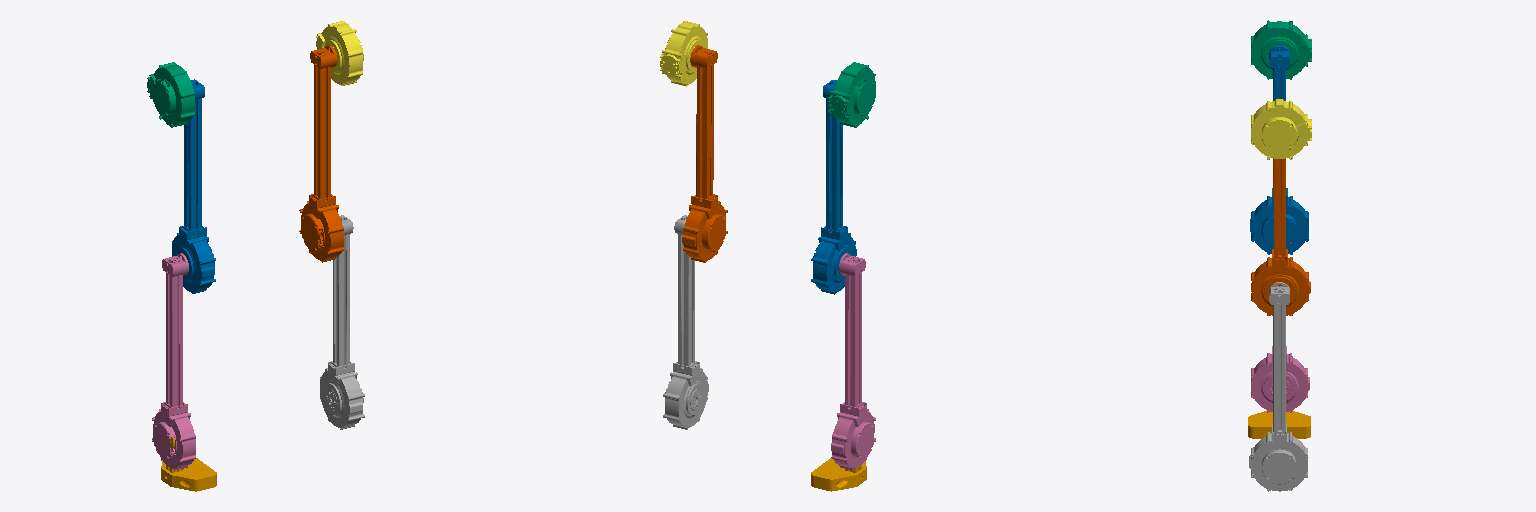
URDF robot description (urde_biped):
<?xml version="1.0" ?>
<!-- =================================================================================== -->
<!-- |    This document was autogenerated by xacro from urdf/robot.urdf.xacro          | -->
<!-- |    EDITING THIS FILE BY HAND IS NOT RECOMMENDED                                 | -->
<!-- =================================================================================== -->
<robot name="urde_biped">
  <!-- <xacro:arg name="cmd_mode" default="position"/>
    <xacro:arg name="HW_mode" default="mock"/> -->
  <material name="grey">
    <color rgba="0.5 0.5 0.5 1"/>
  </material>
  <material name="blue">
    <color rgba="0.2 0.2 1 1"/>
  </material>
  <material name="black">
    <color rgba="0.1 0.1 0.1 1"/>
  </material>
  <!-- ****************************************************************************************** -->
  <!-- ***************************************** Base ******************************************* -->
  <!-- ****************************************************************************************** -->
  <link name="base_link"/>
  <link name="body_link">
    <visual>
      <origin xyz="0 0 0"/>
      <geometry>
        <mesh filename="package://urde_biped/meshes/body_link.stl" scale="0.001 0.001 0.001"/>
      </geometry>
    </visual>
    <collision>
      <origin xyz="0 0 0"/>
      <geometry>
        <mesh filename="package://urde_biped/meshes/body_link.stl" scale="0.001 0.001 0.001"/>
      </geometry>
    </collision>
    <inertial>
      <origin xyz="0 -0.00225 0.01017"/>
      <mass value="2.234"/>
      <inertia ixx="0.001" ixy="2.2295e-07" ixz="1.396e-07" iyx="2.2295e-07" iyy="0.05" iyz="4.933e-06" izx="1.396e-07" izy="4.933e-06" izz="0.05"/>
    </inertial>
  </link>
  <joint name="base_joint" type="fixed">
    <parent link="base_link"/>
    <child link="body_link"/>
    <origin rpy="0 0 0" xyz="0 0 0.6324"/>
  </joint>
  <!-- ****************************************************************************************** -->
  <!-- ***************************************** Left Hip *************************************** -->
  <!-- ****************************************************************************************** -->
  <link name="left_hip">
    <visual>
      <origin xyz="0 0 0"/>
      <geometry>
        <mesh filename="package://urde_biped/meshes//left_hip.stl" scale="0.001 0.001 0.001"/>
      </geometry>
    </visual>
    <collision>
      <origin xyz="0 0 0"/>
      <geometry>
        <mesh filename="package://urde_biped/meshes//left_hip.stl" scale="0.001 0.001 0.001"/>
      </geometry>
    </collision>
    <inertial>
      <origin xyz="0.00262 0 0.04794"/>
      <mass value="0.3847"/>
      <inertia ixx="0.0004" ixy="-1.3e-06" ixz="-2.522e-06" iyx="-1.3e-06" iyy="0.0002" iyz="4.85e-07" izx="-2.522e-06" izy="4.85e-07" izz="0.0002"/>
    </inertial>
  </link>
  <joint name="left_hip_joint" type="revolute">
    <parent link="body_link"/>
    <child link="left_hip"/>
    <origin rpy="1.5707963267948966 0 0" xyz="-0.148 -0.0175 0.01"/>
    <axis xyz="0 0 1"/>
    <limit effort="10" lower="-1.5707963267948966" upper="1.5707963267948966" velocity="1"/>
  </joint>
  <!-- ****************************************************************************************** -->
  <!-- ***************************************** Right Hip *************************************** -->
  <!-- ****************************************************************************************** -->
  <link name="right_hip">
    <visual>
      <origin xyz="0 0 0"/>
      <geometry>
        <mesh filename="package://urde_biped/meshes/right_hip.stl" scale="0.001 0.001 0.001"/>
      </geometry>
    </visual>
    <collision>
      <origin xyz="0 0 0"/>
      <geometry>
        <mesh filename="package://urde_biped/meshes/right_hip.stl" scale="0.001 0.001 0.001"/>
      </geometry>
    </collision>
    <inertial>
      <origin xyz="-0.00262 0 0.04794"/>
      <mass value="0.3847"/>
      <inertia ixx="0.0004" ixy="-1.3e-06" ixz="3.369e-06" iyx="-1.3e-06" iyy="0.0002" iyz="4.85e-07" izx="3.369e-06" izy="4.85e-07" izz="0.0002"/>
    </inertial>
  </link>
  <joint name="right_hip_joint" type="revolute">
    <parent link="body_link"/>
    <child link="right_hip"/>
    <origin rpy="1.5707963267948966 0 0" xyz="0.148 -0.0175 0.01"/>
    <axis xyz="0 0 1"/>
    <limit effort="10" lower="1.5707963267948966" upper="-1.5707963267948966" velocity="1"/>
  </joint>
  <!-- ****************************************************************************************** -->
  <!-- ***************************************** Left thigh ************************************* -->
  <!-- ****************************************************************************************** -->
  <link name="left_thigh">
    <visual>
      <origin xyz="0 0 0"/>
      <geometry>
        <mesh filename="package://urde_biped/meshes/left_thigh.stl" scale="0.001 0.001 0.001"/>
      </geometry>
    </visual>
    <collision>
      <origin xyz="0 0 0"/>
      <geometry>
        <mesh filename="package://urde_biped/meshes/left_thigh.stl" scale="0.001 0.001 0.001"/>
      </geometry>
    </collision>
    <inertial>
      <origin xyz="0.0148 0 -0.201"/>
      <mass value="0.619"/>
      <inertia ixx="0.009" ixy="1.214e-06" ixz="3.1265e-05" iyx="1.214e-06" iyy="0.009" iyz="9.833e-06" izx="3.1265e-05" izy="9.833e-06" izz="0.0002"/>
    </inertial>
  </link>
  <joint name="left_thigh_joint" type="revolute">
    <parent link="left_hip"/>
    <child link="left_thigh"/>
    <origin rpy="-1.5707963267948966 0 0" xyz="0.0175 0 0.051"/>
    <axis xyz="1 0 0"/>
    <limit effort="10" lower="-1.5707963267948966" upper="1.5707963267948966" velocity="1"/>
  </joint>
  <!-- ****************************************************************************************** -->
  <!-- ***************************************** right thigh ************************************ -->
  <!-- ****************************************************************************************** -->
  <link name="right_thigh">
    <visual>
      <origin xyz="0 0 0"/>
      <geometry>
        <mesh filename="package://urde_biped/meshes/right_thigh.stl" scale="0.001 0.001 0.001"/>
      </geometry>
    </visual>
    <collision>
      <origin xyz="0 0 0"/>
      <geometry>
        <mesh filename="package://urde_biped/meshes/right_thigh.stl" scale="0.001 0.001 0.001"/>
      </geometry>
    </collision>
    <inertial>
      <origin xyz="-0.0139 0 -0.201"/>
      <mass value="0.619"/>
      <inertia ixx="0.009" ixy="1.214e-06" ixz="3.1265e-05" iyx="1.214e-06" iyy="0.009" iyz="9.833e-06" izx="3.1265e-05" izy="9.833e-06" izz="0.0002"/>
    </inertial>
  </link>
  <joint name="right_thigh_joint" type="revolute">
    <parent link="right_hip"/>
    <child link="right_thigh"/>
    <origin rpy="-1.5707963267948966 0 0" xyz="-0.0175 0 0.051"/>
    <axis xyz="1 0 0"/>
    <limit effort="10" lower="-1.5707963267948966" upper="1.5707963267948966" velocity="1"/>
  </joint>
  <!-- ****************************************************************************************** -->
  <!-- ***************************************** Left shin ************************************* -->
  <!-- ****************************************************************************************** -->
  <link name="left_shin">
    <visual>
      <origin xyz="0 0 0"/>
      <geometry>
        <mesh filename="package://urde_biped/meshes/left_shin.stl" scale="0.001 0.001 0.001"/>
      </geometry>
    </visual>
    <collision>
      <origin xyz="0 0 0"/>
      <geometry>
        <mesh filename="package://urde_biped/meshes/left_shin.stl" scale="0.001 0.001 0.001"/>
      </geometry>
    </collision>
    <inertial>
      <origin xyz="-0.0136 0 -0.2296"/>
      <mass value="0.542"/>
      <inertia ixx="0.006" ixy="1.214e-06" ixz="3.1265e-05" iyx="1.214e-06" iyy="0.005" iyz="9.833e-06" izx="3.1265e-05" izy="9.833e-06" izz="0.002"/>
    </inertial>
  </link>
  <joint name="left_knee_joint" type="revolute">
    <parent link="left_thigh"/>
    <child link="left_shin"/>
    <origin rpy="0 0 0" xyz="0 0 -0.2885"/>
    <axis xyz="1 0 0"/>
    <limit effort="10" lower="-1.5707963267948966" upper="1.5707963267948966" velocity="1"/>
  </joint>
  <!-- ****************************************************************************************** -->
  <!-- ***************************************** right shin ************************************* -->
  <!-- ****************************************************************************************** -->
  <link name="right_shin">
    <visual>
      <origin xyz="0 0 0"/>
      <geometry>
        <mesh filename="package://urde_biped/meshes/right_shin.stl" scale="0.001 0.001 0.001"/>
      </geometry>
    </visual>
    <collision>
      <origin xyz="0 0 0"/>
      <geometry>
        <mesh filename="package://urde_biped/meshes/right_shin.stl" scale="0.001 0.001 0.001"/>
      </geometry>
    </collision>
    <inertial>
      <origin xyz="0.01466 0 -0.2296"/>
      <mass value="0.542"/>
      <inertia ixx="0.006" ixy="-6.8e-08" ixz="4.5314e-05" iyx="-6.8e-08" iyy="0.005" iyz="-1.37e-07" izx="4.5314e-05" izy="-1.37e-07" izz="0.002"/>
    </inertial>
  </link>
  <joint name="right_knee_joint" type="revolute">
    <parent link="right_thigh"/>
    <child link="right_shin"/>
    <origin rpy="0 0 0" xyz="0 0 -0.2885"/>
    <axis xyz="1 0 0"/>
    <limit effort="10" lower="-1.5707963267948966" upper="1.5707963267948966" velocity="1"/>
  </joint>
  <!-- ****************************************************************************************** -->
  <!-- ***************************************** Left foot ************************************* -->
  <!-- ****************************************************************************************** -->
  <link name="left_foot">
    <visual>
      <origin xyz="0 0 0"/>
      <geometry>
        <mesh filename="package://urde_biped/meshes/left_foot.stl" scale="0.001 0.001 0.001"/>
      </geometry>
    </visual>
    <collision>
      <origin xyz="0 0 0"/>
      <geometry>
        <mesh filename="package://urde_biped/meshes/left_foot.stl" scale="0.001 0.001 0.001"/>
      </geometry>
    </collision>
    <inertial>
      <origin xyz="0.0049 0 -0.0351"/>
      <mass value="0.233"/>
      <inertia ixx="0.002" ixy="2.14e-07" ixz="-4.5314e-05" iyx="2.14e-07" iyy="0.0002" iyz="1.94e-07" izx="-4.5314e-05" izy="1.94e-07" izz="0.0001"/>
    </inertial>
  </link>
  <joint name="left_ankle_joint" type="revolute">
    <parent link="left_shin"/>
    <child link="left_foot"/>
    <origin rpy="0 0 0" xyz="0 0 -0.2885"/>
    <axis xyz="1 0 0"/>
    <limit effort="10" lower="-1.5707963267948966" upper="1.5707963267948966" velocity="1"/>
  </joint>
  <!-- ****************************************************************************************** -->
  <!-- ***************************************** Right foot ************************************* -->
  <!-- ****************************************************************************************** -->
  <link name="right_foot">
    <visual>
      <origin xyz="0 0 0"/>
      <geometry>
        <mesh filename="package://urde_biped/meshes/right_foot.stl" scale="0.001 0.001 0.001"/>
      </geometry>
    </visual>
    <collision>
      <origin xyz="0 0 0"/>
      <geometry>
        <mesh filename="package://urde_biped/meshes/right_foot.stl" scale="0.001 0.001 0.001"/>
      </geometry>
    </collision>
    <inertial>
      <origin xyz="-0.00477 0 -0.0351"/>
      <mass value="0.233"/>
      <inertia ixx="0.002" ixy="-6.8e-08" ixz="4.5314e-05" iyx="-6.8e-08" iyy="0.0002" iyz="-1.37e-07" izx="4.5314e-05" izy="-1.37e-07" izz="0.0001"/>
    </inertial>
  </link>
  <joint name="right_ankle_joint" type="revolute">
    <parent link="right_shin"/>
    <child link="right_foot"/>
    <origin rpy="0 0 0" xyz="0 0 -0.2885"/>
    <axis xyz="1 0 0"/>
    <limit effort="10" lower="-1.5707963267948966" upper="1.5707963267948966" velocity="1"/>
  </joint>
  <!-- <xacro:include filename="ros2_control.xacro"/> -->
  <!-- XACRO to handle multiple ros2_control hardware_interface plugins -->
  <!-- <xacro:ros2_control HW_mode="$(arg HW_mode)" cmd_mode="$(arg cmd_mode)"/> -->
</robot>

--- Render facts (derived) ---
3 views of the same robot in one strip: view 1: azimuth 30°, elevation 25°; view 2: azimuth 150°, elevation 25°; view 3: azimuth 270°, elevation 25° (orthographic).
Robot: urde_biped — 10 links, 9 joints (8 revolute, 1 fixed); root link base_link; default pose: all joints at 0.
Visible links, largest first — view 1: right_thigh, left_shin, right_shin, left_thigh, left_hip, right_hip, left_foot; view 2: right_thigh, left_shin, right_shin, left_thigh, left_hip, right_hip, left_foot; view 3: right_shin, right_thigh, left_thigh, right_hip, left_hip, left_shin, left_foot.
Link boxes in pixels (x1=…): right_thigh: x1=299, y1=45, x2=343, y2=262; left_shin: x1=152, y1=253, x2=195, y2=470; right_shin: x1=320, y1=215, x2=364, y2=429; left_thigh: x1=172, y1=79, x2=215, y2=293; left_hip: x1=147, y1=62, x2=194, y2=127; right_hip: x1=316, y1=21, x2=363, y2=85; left_foot: x1=161, y1=437, x2=216, y2=491; right_thigh: x1=682, y1=45, x2=727, y2=262; left_shin: x1=831, y1=253, x2=875, y2=470; right_shin: x1=663, y1=215, x2=708, y2=429; left_thigh: x1=811, y1=80, x2=856, y2=294; left_hip: x1=828, y1=62, x2=875, y2=127; right_hip: x1=660, y1=21, x2=707, y2=86; left_foot: x1=811, y1=458, x2=866, y2=491; right_shin: x1=1249, y1=282, x2=1307, y2=491; right_thigh: x1=1251, y1=158, x2=1310, y2=315; left_thigh: x1=1250, y1=45, x2=1308, y2=254; right_hip: x1=1251, y1=99, x2=1311, y2=159; left_hip: x1=1251, y1=20, x2=1311, y2=79; left_shin: x1=1251, y1=346, x2=1309, y2=412; left_foot: x1=1248, y1=384, x2=1310, y2=438.
Size in the robot's own frame: 0.3411 by 0.101 by 0.6975 metres.
7 mesh visuals loaded from 9 distinct referenced files (7 binary STL); not drawn: 2 (reference not matched to a file when rendering).
